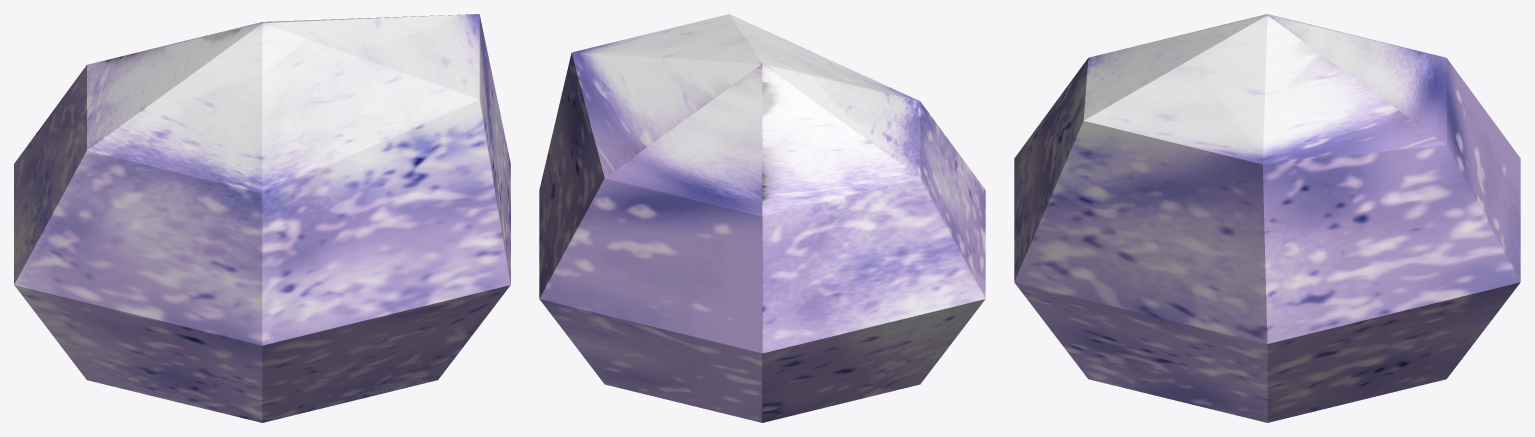
File: orcus.fbx
3 views of the same model, side by side, from view 1: azimuth 30°, elevation 25°; view 2: azimuth 150°, elevation 25°; view 3: azimuth 270°, elevation 25° (orthographic). The views are drawn at different scales.
Parts seen in each view (by area): view 1: pSphere1; view 2: pSphere1; view 3: pSphere1.
Part boxes in pixels (<box>): pSphere1: <box>14,14,510,422</box>; pSphere1: <box>539,14,985,422</box>; pSphere1: <box>1014,14,1520,422</box>.
Bounding box in the file's own units: 2.68 × 2.01 × 2.32.
Materials: 1 (1 with a texture image).
